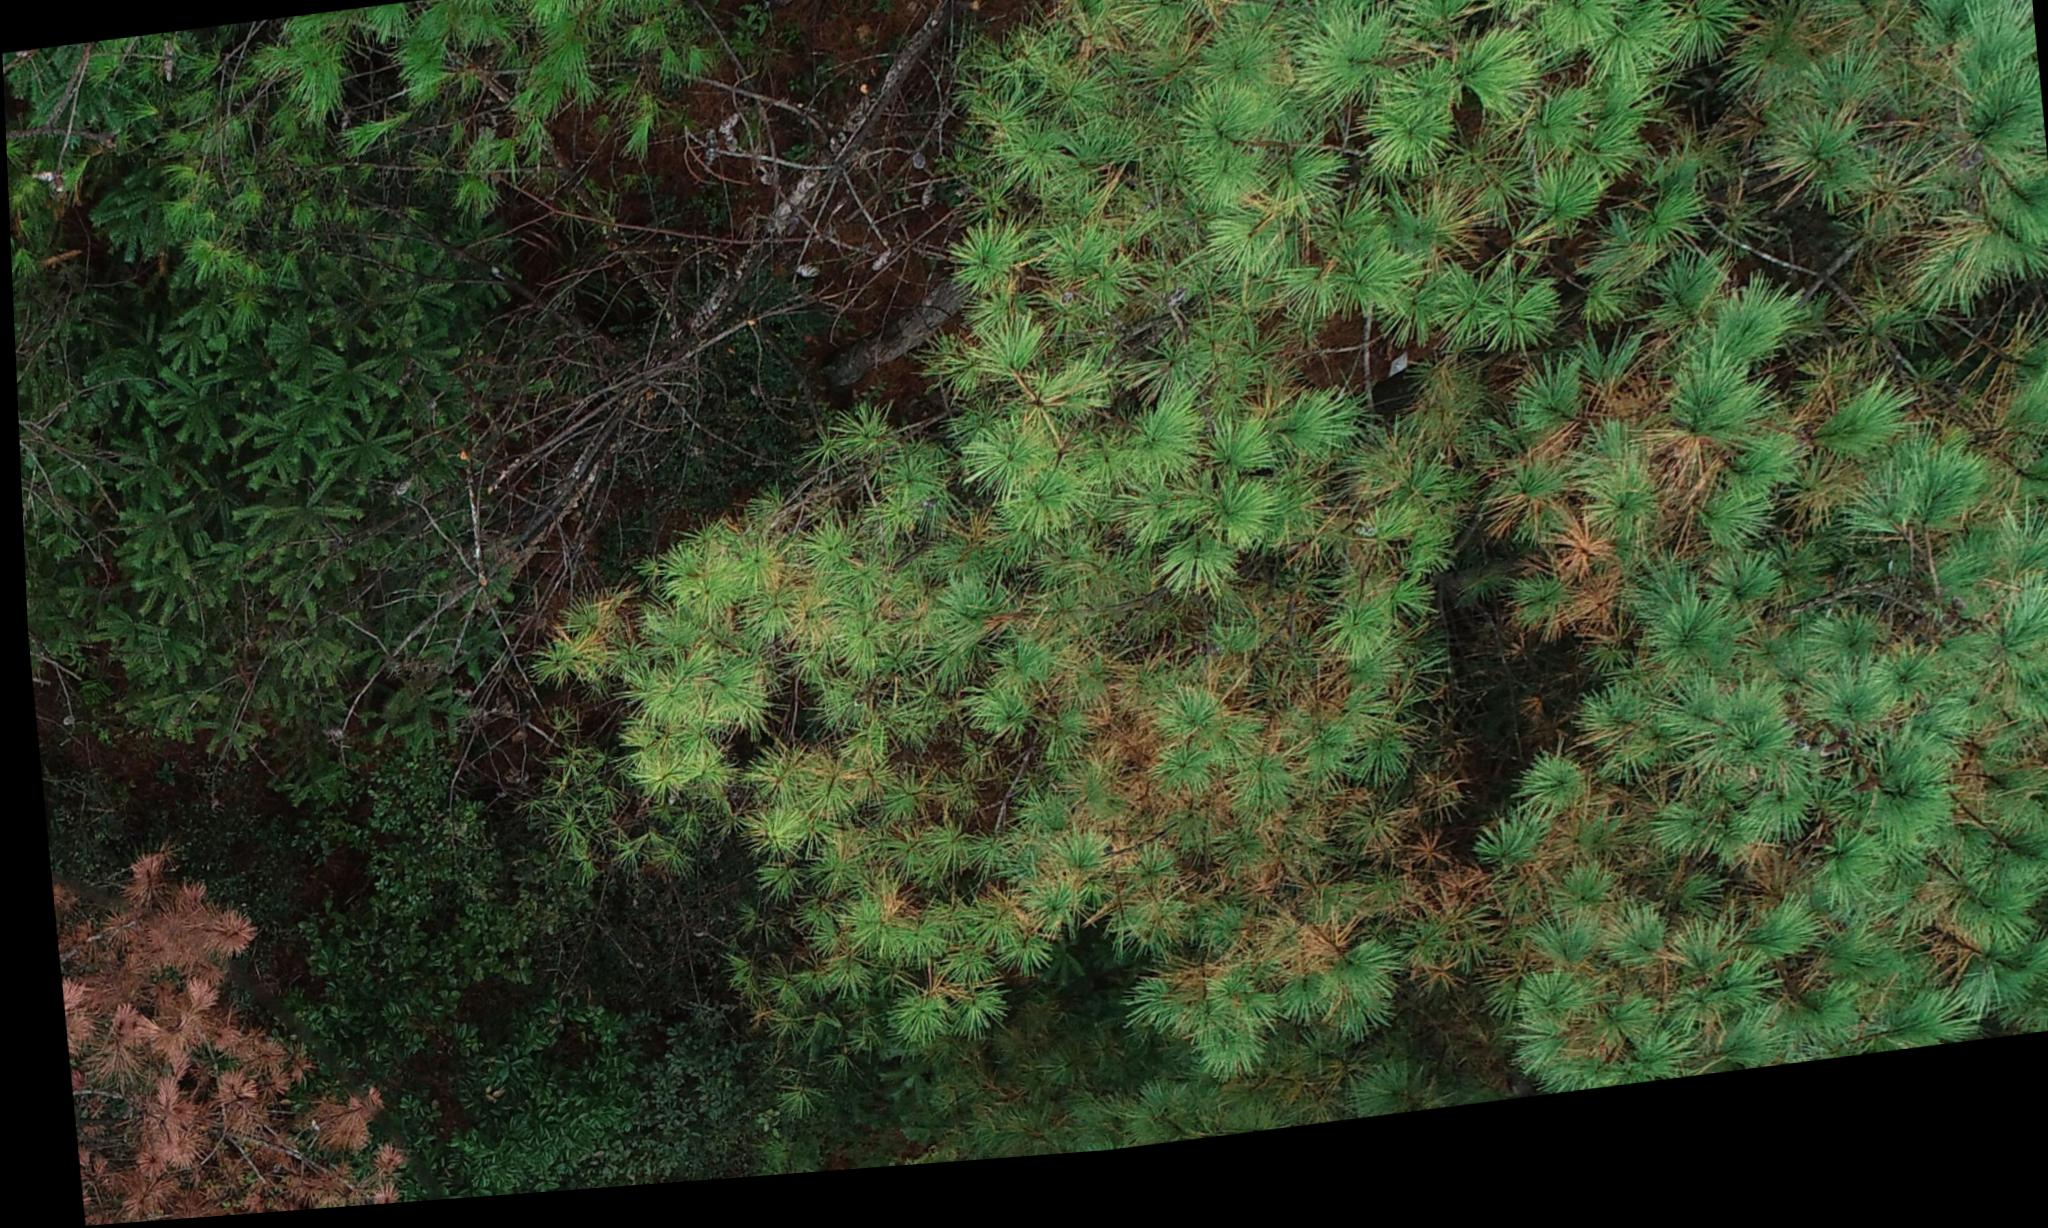heavy: (54, 829, 398, 1227)
light: (566, 323, 2048, 1183)
